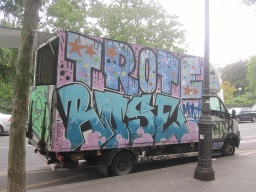truck: (31, 27, 241, 162)
